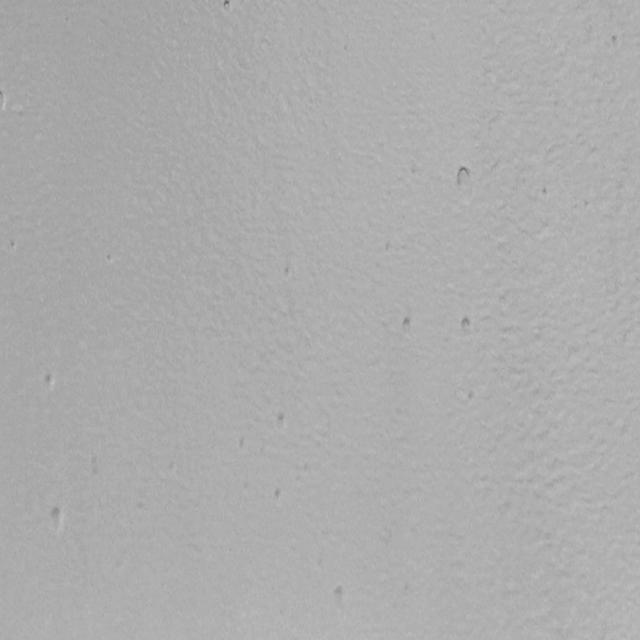pin holes: (451, 163, 475, 194), (48, 504, 68, 534), (455, 313, 476, 338), (329, 583, 350, 608), (272, 409, 290, 435), (605, 32, 625, 54), (270, 486, 289, 508), (42, 371, 59, 392), (400, 313, 417, 334), (221, 0, 238, 15), (281, 262, 292, 282), (465, 389, 477, 407), (384, 238, 396, 255), (102, 252, 116, 266), (540, 185, 552, 201), (0, 89, 8, 112), (8, 238, 21, 252)
